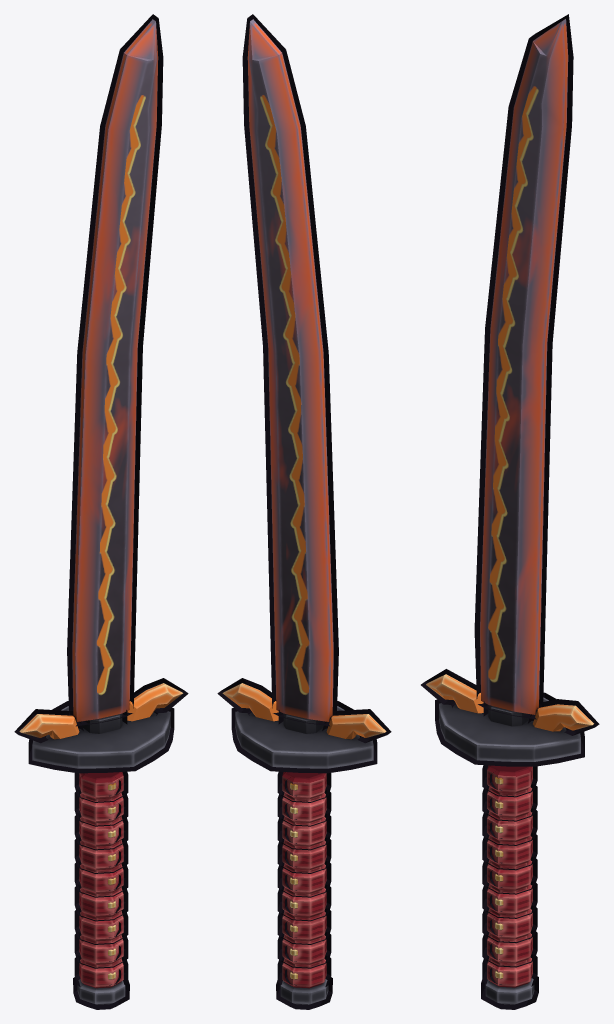
File: InfernoKatana.fbx
The picture shows the model from 3 angles, left to right: view 1: azimuth 30°, elevation 25°; view 2: azimuth 150°, elevation 25°; view 3: azimuth 330°, elevation 25°; orthographic projection. The views are drawn at different scales.
Parts seen in each view (by area): view 1: InfernoKatana, InfernoKatanaOutline, InfernoKatanaEmberGlow; view 2: InfernoKatana, InfernoKatanaOutline, InfernoKatanaEmberGlow; view 3: InfernoKatana, InfernoKatanaOutline, InfernoKatanaEmberGlow.
Boxes of the visible parts, <box> form: InfernoKatana: <box>32,19,170,1004</box>; InfernoKatanaOutline: <box>14,14,188,1009</box>; InfernoKatanaEmberGlow: <box>19,683,183,739</box>; InfernoKatana: <box>235,19,373,1004</box>; InfernoKatanaOutline: <box>217,14,391,1009</box>; InfernoKatanaEmberGlow: <box>222,683,386,739</box>; InfernoKatana: <box>439,19,580,1004</box>; InfernoKatanaOutline: <box>421,14,599,1009</box>; InfernoKatanaEmberGlow: <box>426,674,593,731</box>.
Bounding box in the file's own units: 83.54 × 457 × 58.04.
Materials: 2 (1 with a texture image).
